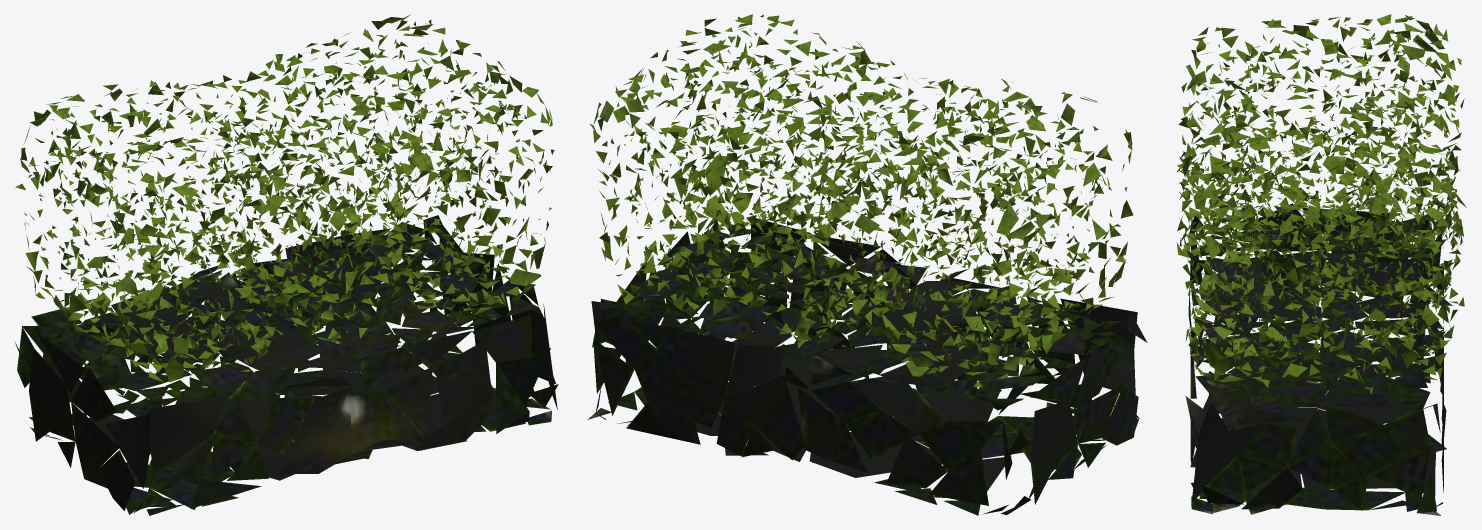
File: planter.glb
The picture shows the model from 3 angles, left to right: view 1: azimuth 30°, elevation 25°; view 2: azimuth 150°, elevation 25°; view 3: azimuth 270°, elevation 25°; orthographic projection. The views are drawn at different scales.
Parts seen in each view (by area): view 1: Mesh_0; view 2: Mesh_0; view 3: Mesh_0.
Boxes of the visible parts, bbox=[...] form: Mesh_0: bbox=[14, 15, 558, 515]; Mesh_0: bbox=[587, 14, 1147, 515]; Mesh_0: bbox=[1176, 14, 1466, 515].
Bounding box in the file's own units: 1.86 × 1.35 × 1.09.
1 material, 1 textured.
